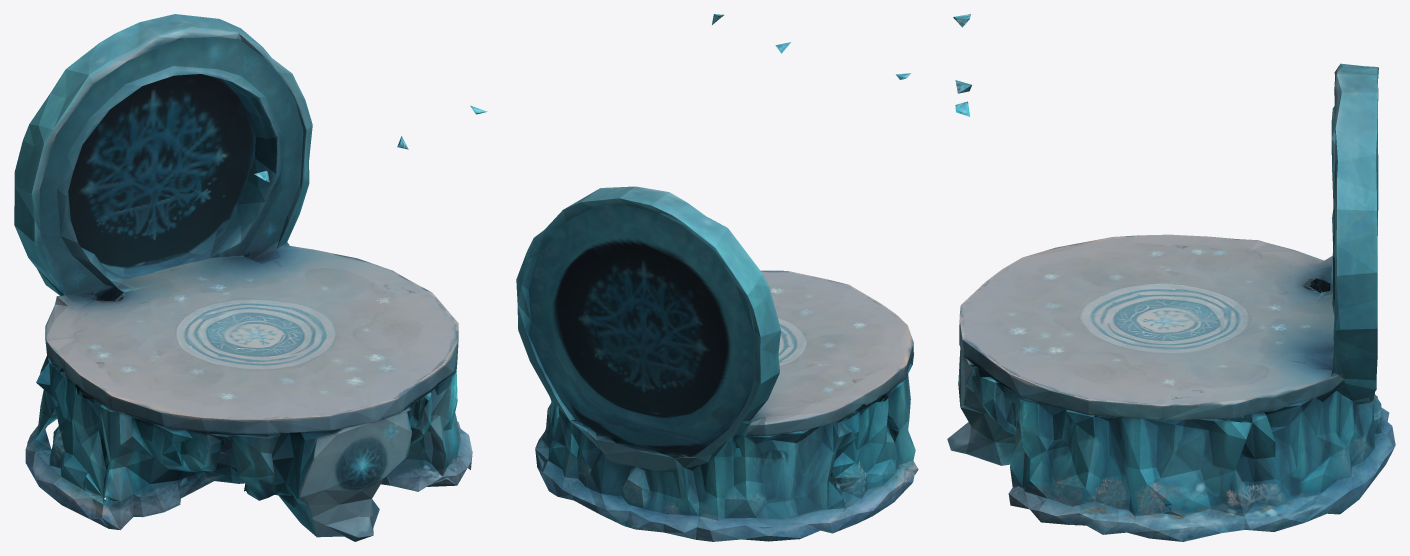
Rendered from Altar das Névoas.fbx.
3 views of the same model, side by side, from view 1: azimuth 30°, elevation 25°; view 2: azimuth 150°, elevation 25°; view 3: azimuth 270°, elevation 25° (orthographic). The views are drawn at different scales.
Parts seen in each view (by area): view 1: temp; view 2: temp; view 3: temp.
Boxes of the visible parts, box(x1,y1,x2,y2) form: temp: box(14, 14, 487, 541); temp: box(516, 14, 918, 541); temp: box(947, 14, 1395, 541).
Size of the model in its own units: 187 by 199 by 191.
Materials: 1 (1 with a texture image).
